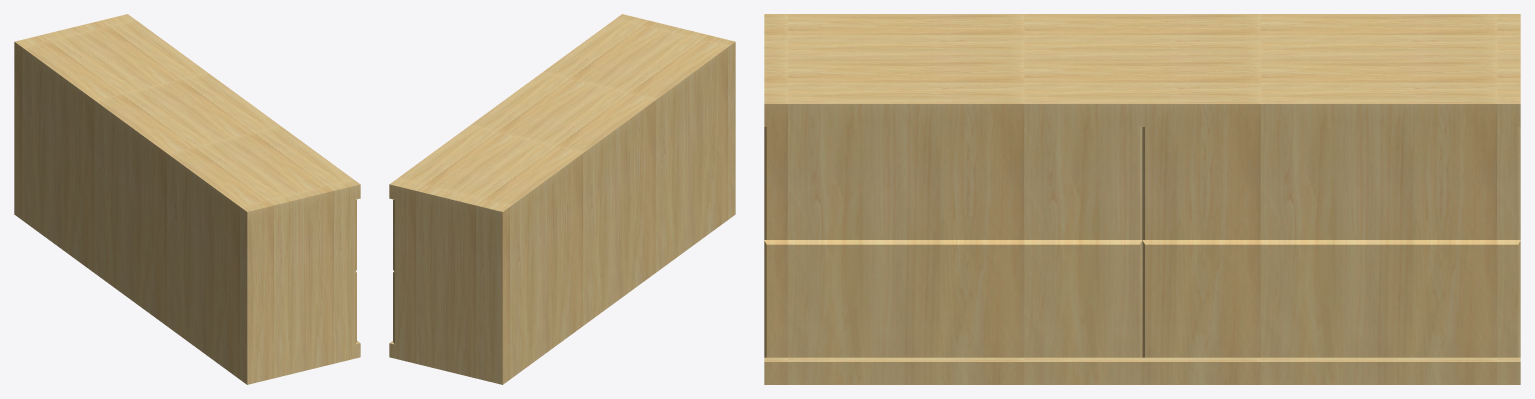
The model's file is Cabinet01B.FBX.
3 renders of one model, left to right at view 1: azimuth 30°, elevation 25°; view 2: azimuth 150°, elevation 25°; view 3: azimuth 270°, elevation 25°, orthographic. The views are drawn at different scales.
Parts seen in each view (by area): view 1: Cabinet02; view 2: Cabinet02; view 3: Cabinet02.
Part boxes in pixels (left/top/right/bottom): Cabinet02: left=14, top=14, right=360, bottom=384; Cabinet02: left=389, top=14, right=735, bottom=384; Cabinet02: left=764, top=14, right=1520, bottom=384.
Size of the model in its own units: 42 by 149 by 61.25.
